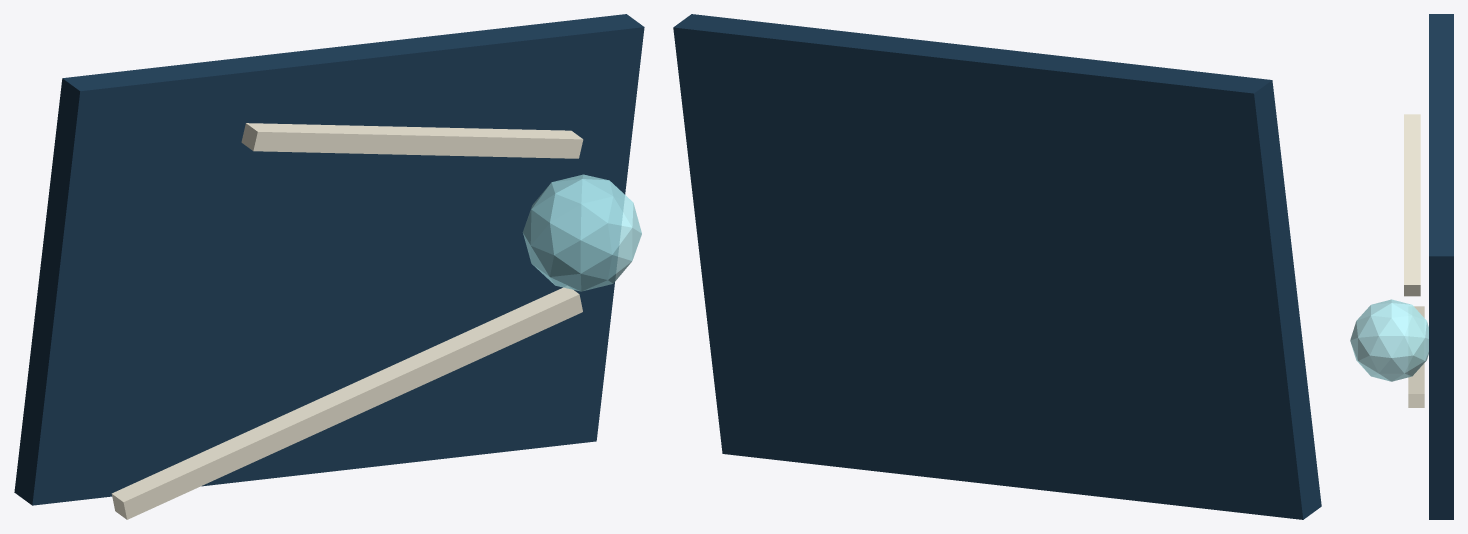
The model's file is 02_world_prop_polish.glb.
3 views of the same model, side by side, from view 1: azimuth 30°, elevation 25°; view 2: azimuth 150°, elevation 25°; view 3: azimuth 270°, elevation 25° (orthographic). The views are drawn at different scales.
Visible parts, largest first — view 1: object_overlay_plate, edge_wear_a, glow_socket, edge_wear_b; view 2: object_overlay_plate; view 3: object_overlay_plate, glow_socket, edge_wear_b, edge_wear_a.
Boxes of the visible parts, x1,y1,x2,y2 form: object_overlay_plate: [14, 14, 644, 505]; edge_wear_a: [111, 286, 582, 519]; glow_socket: [522, 174, 641, 291]; edge_wear_b: [241, 123, 583, 158]; object_overlay_plate: [673, 14, 1321, 519]; object_overlay_plate: [1429, 14, 1453, 519]; glow_socket: [1350, 299, 1428, 381]; edge_wear_b: [1404, 114, 1420, 296]; edge_wear_a: [1408, 306, 1424, 407].
Size of the model in its own units: 1.18 by 0.8801 by 0.25.
